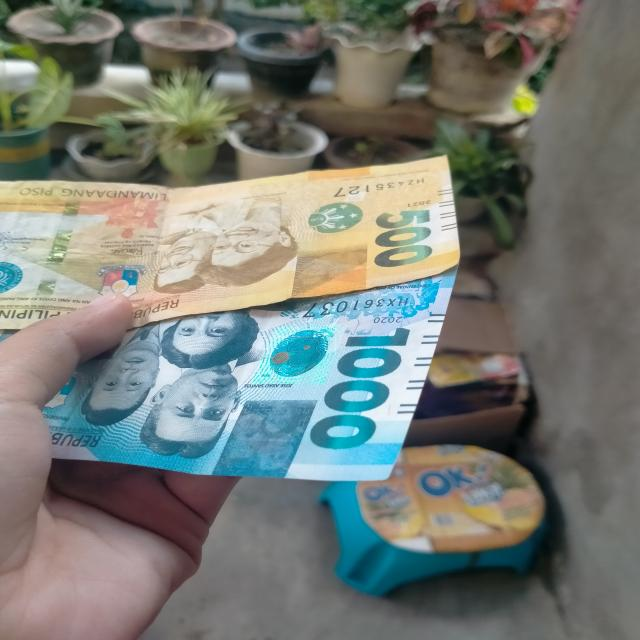concealed_value: (207, 399, 316, 482), (290, 245, 373, 299)
optically_variable_device: (253, 311, 337, 391), (295, 191, 373, 247)
security_thread: (21, 180, 92, 327)
value: (310, 321, 419, 456), (364, 200, 441, 270)
